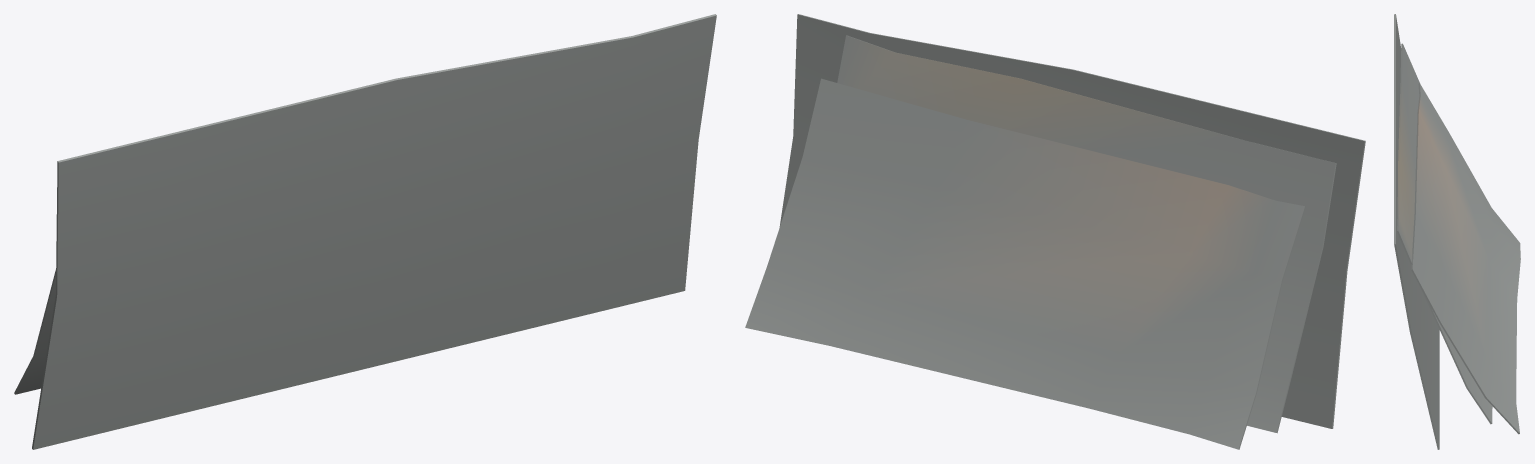
3 views of the same model, side by side, from view 1: azimuth 30°, elevation 25°; view 2: azimuth 150°, elevation 25°; view 3: azimuth 270°, elevation 25° (orthographic). The views are drawn at different scales.
Parts seen in each view (by area): view 1: G:\FFXIV-MapTools\exports\s1f2\bg\ffxiv\sea_s1\fld\s1f2\bgpa; view 2: G:\FFXIV-MapTools\exports\s1f2\bg\ffxiv\sea_s1\fld\s1f2\bgpa; view 3: G:\FFXIV-MapTools\exports\s1f2\bg\ffxiv\sea_s1\fld\s1f2\bgpa.
Part boxes in pixels (x1,y1,x2,y2): G:\FFXIV-MapTools\exports\s1f2\bg\ffxiv\sea_s1\fld\s1f2\bgpa: (14, 14, 716, 449); G:\FFXIV-MapTools\exports\s1f2\bg\ffxiv\sea_s1\fld\s1f2\bgpa: (745, 14, 1365, 449); G:\FFXIV-MapTools\exports\s1f2\bg\ffxiv\sea_s1\fld\s1f2\bgpa: (1394, 14, 1520, 449).
Bounding box in the file's own units: 7.61 × 3.45 × 1.84.
